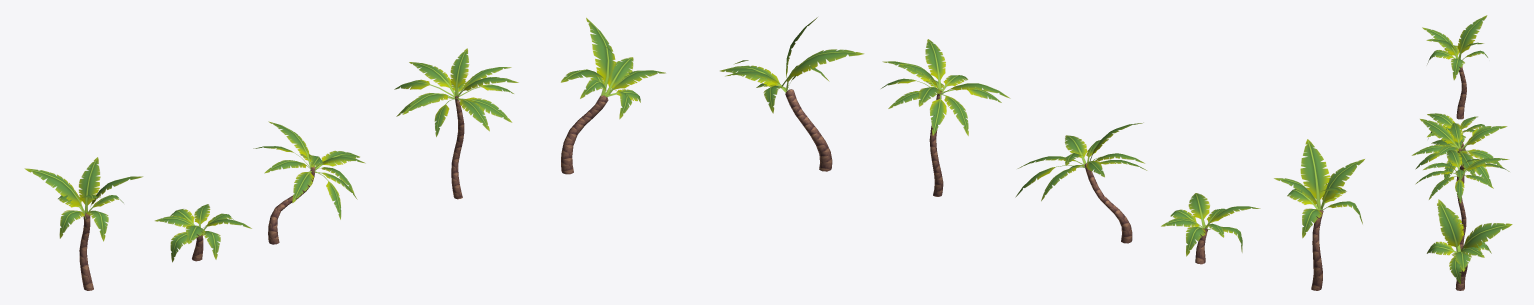
Rendered from palm_trees_optimized.glb.
3 views of the same model, side by side, from view 1: azimuth 30°, elevation 25°; view 2: azimuth 150°, elevation 25°; view 3: azimuth 270°, elevation 25° (orthographic). The views are drawn at different scales.
Parts seen in each view (by area): view 1: PalmTree_3; view 2: PalmTree_3; view 3: PalmTree_3.
Boxes of the visible parts, x1,y1,x2,y2 form: PalmTree_3: (24,17,665,290); PalmTree_3: (720,17,1364,290); PalmTree_3: (1412,15,1512,290).
Size of the model in its own units: 25.91 by 5.28 by 5.24.
2 materials, 2 textured.
